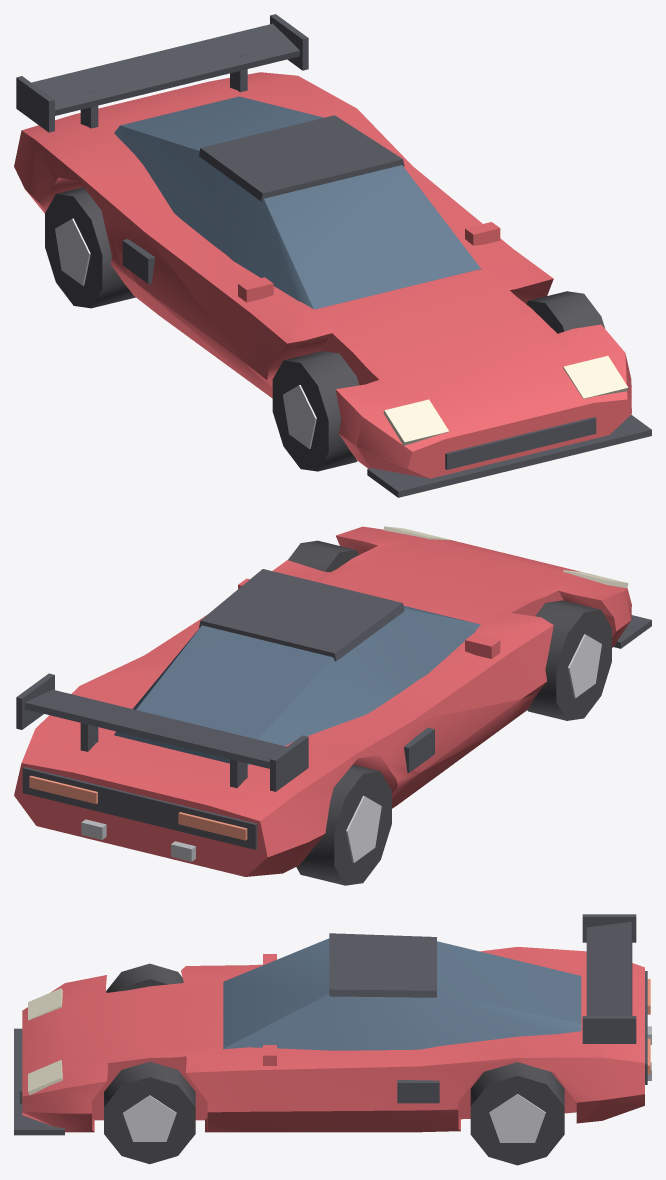
File: sports-car-lowpoly.glb
3 views of the same model, one above another, from view 1: azimuth 30°, elevation 25°; view 2: azimuth 150°, elevation 25°; view 3: azimuth 270°, elevation 25° (orthographic). The views are drawn at different scales.
Visible parts, largest first — view 1: body, cabin, roof, wing, tyre_fl, tyre_rl, splitter, grille, tyre_fr, headlight_l, headlight_r, rim_rl (+5 smaller); view 2: body, cabin, roof, wing, tyre_fl, tyre_rl, rear_panel, rim_rl, tyre_fr, wing_plate_l, rim_fl, wing_plate_r (+5 smaller); view 3: body, cabin, roof, tyre_rr, tyre_fr, wing, rim_rr, rim_fr, wing_plate_r, tyre_fl, splitter, intake_r (+3 smaller).
Part boxes in pixels (x1,y1,x2,y2): body: (14, 72, 631, 478); cabin: (114, 96, 481, 309); roof: (199, 115, 404, 201); wing: (31, 23, 299, 115); tyre_fl: (272, 351, 359, 471); tyre_rl: (45, 187, 135, 308); splitter: (367, 414, 651, 497); grille: (445, 417, 596, 469); tyre_fr: (526, 291, 604, 333); headlight_l: (383, 399, 449, 445); headlight_r: (563, 356, 628, 398); rim_rl: (55, 218, 90, 285); body: (14, 526, 631, 876); cabin: (114, 606, 480, 765); roof: (199, 569, 404, 661); wing: (24, 689, 286, 768); tyre_fl: (527, 600, 611, 720); tyre_rl: (296, 764, 391, 885); rear_panel: (22, 767, 257, 849); rim_rl: (346, 795, 381, 862); tyre_fr: (288, 540, 358, 572); wing_plate_l: (270, 735, 308, 791); rim_fl: (568, 634, 601, 698); wing_plate_r: (16, 673, 54, 729); body: (22, 946, 644, 1132); cabin: (223, 938, 581, 1050); roof: (329, 933, 436, 997); tyre_rr: (470, 1062, 564, 1165); tyre_fr: (104, 1061, 195, 1164); wing: (586, 921, 632, 1015); rim_rr: (489, 1094, 545, 1142); rim_fr: (123, 1095, 176, 1141); wing_plate_r: (582, 1016, 636, 1043); tyre_fl: (106, 963, 183, 992); splitter: (14, 1028, 64, 1135); intake_r: (397, 1080, 439, 1103).
Bounding box in the file's own units: 1.96 × 1.14 × 4.51.
